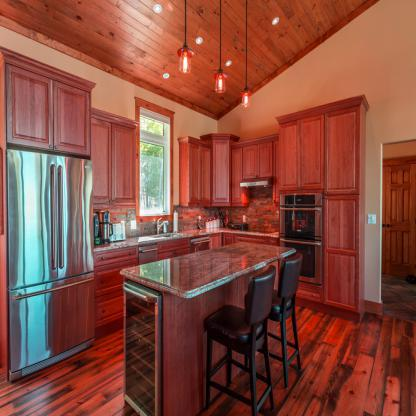door: (384, 166, 416, 275)
hinged: (386, 224, 393, 228), (414, 173, 416, 180), (414, 218, 416, 225), (414, 263, 415, 271)
